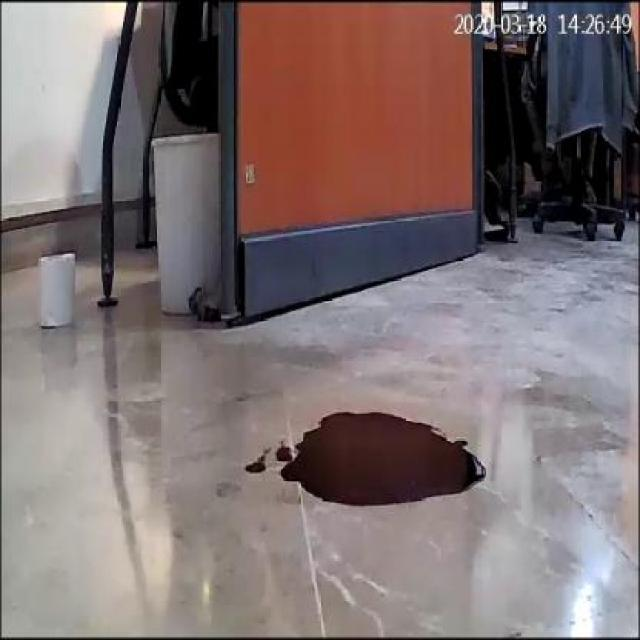spill: (282, 404, 488, 508)
